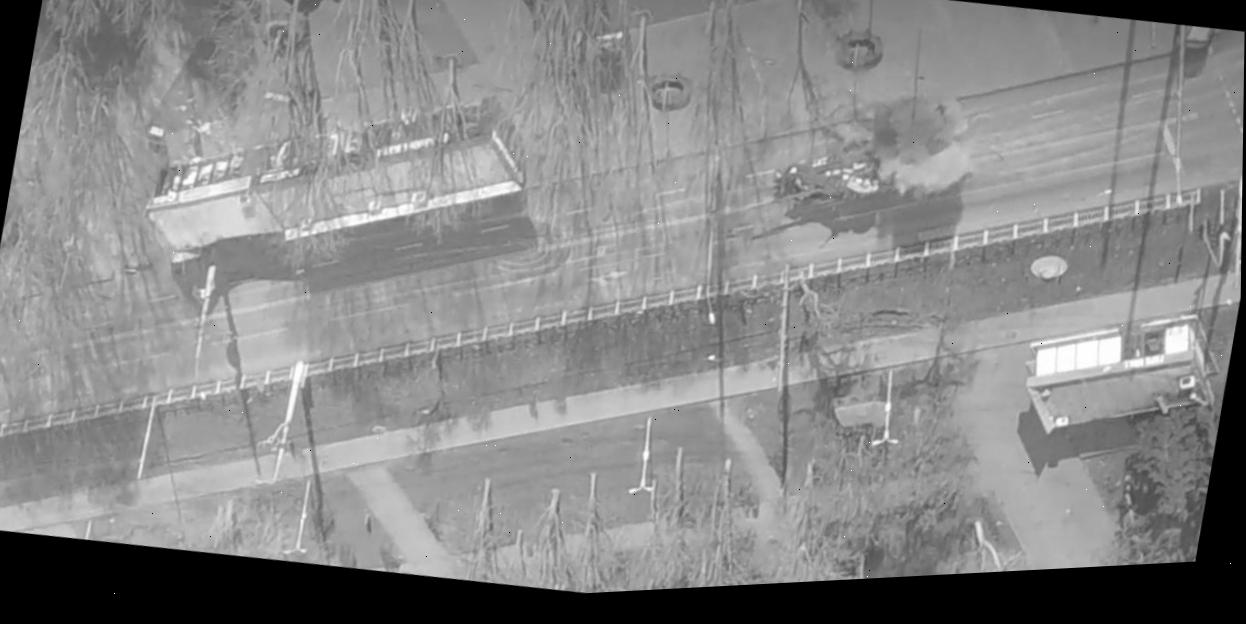tank: (748, 120, 910, 233)
